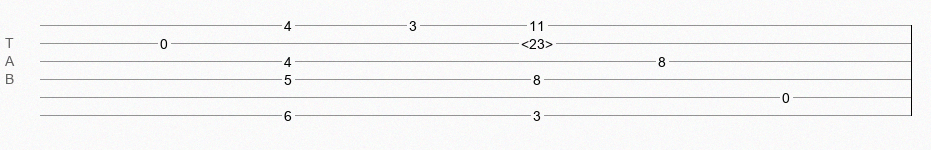0: (160, 36, 168, 46), (782, 90, 790, 100)
11: (529, 18, 545, 28)
3: (409, 18, 417, 28), (533, 108, 541, 118)
4: (284, 18, 292, 28), (284, 54, 292, 64)
5: (284, 72, 292, 82)
6: (284, 108, 292, 118)
8: (533, 72, 541, 82), (658, 54, 666, 64)
harmonic: (521, 36, 553, 46)
